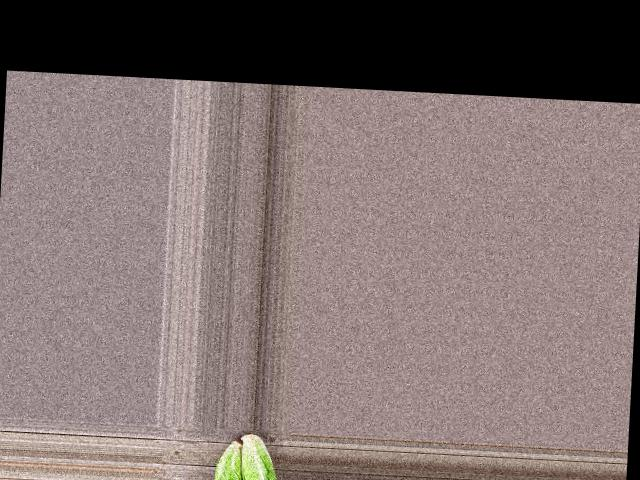lettuce: (236, 429, 287, 480)
